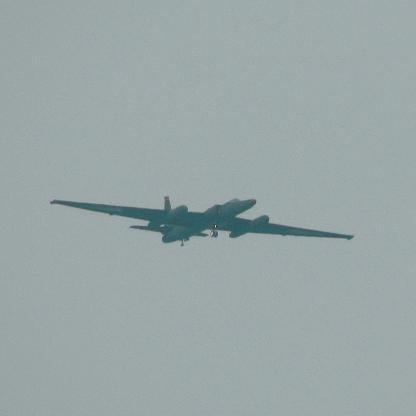Tu160: (50, 196, 354, 246)
